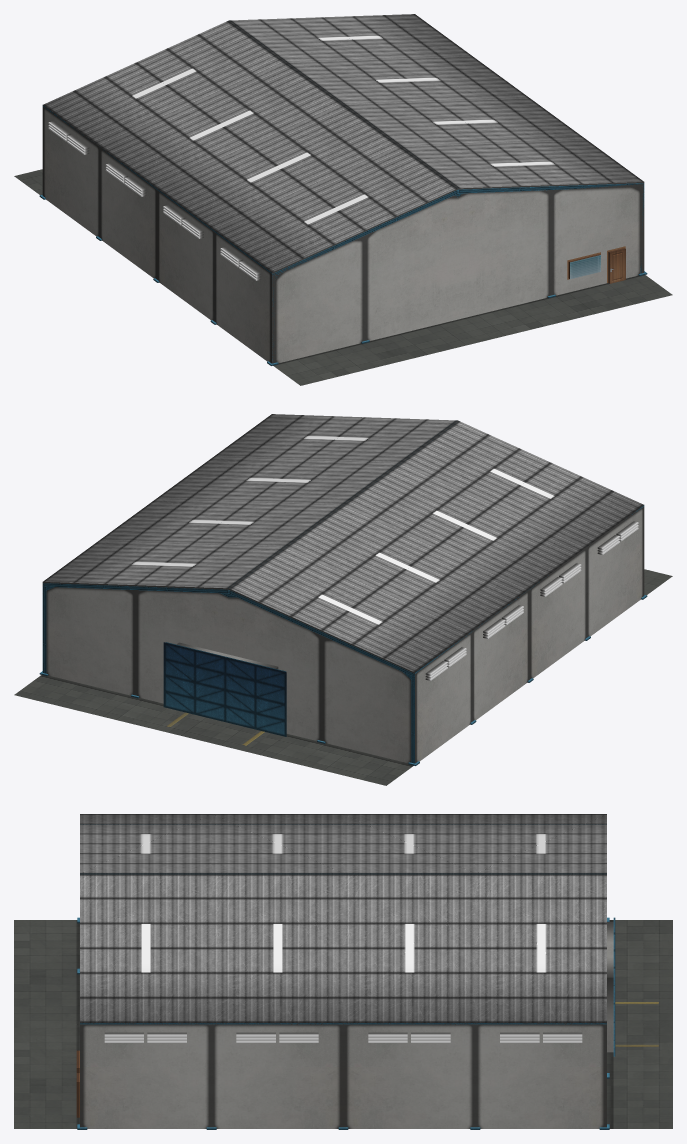
The model's file is Garage.fbx.
3 views of the same model, one above another, from view 1: azimuth 30°, elevation 25°; view 2: azimuth 150°, elevation 25°; view 3: azimuth 270°, elevation 25° (orthographic). The views are drawn at different scales.
Parts seen in each view (by area): view 1: Garage, Garage_01_Floor; view 2: Garage, Garage_01_Floor; view 3: Garage, Garage_01_Floor.
Part boxes in pixels (x1,y1,x2,y2): Garage: (39,14,647,365); Garage_01_Floor: (14,169,672,385); Garage: (39,414,647,765); Garage_01_Floor: (14,569,672,785); Garage: (76,814,615,1129); Garage_01_Floor: (14,920,672,1128).
Size of the model in its own units: 3080 by 1010 by 4000.
